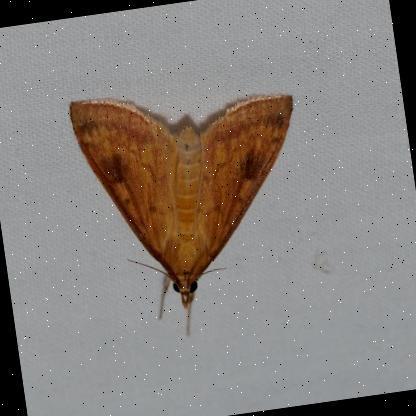Asian Corn Borer Moth: (63, 66, 325, 350)
